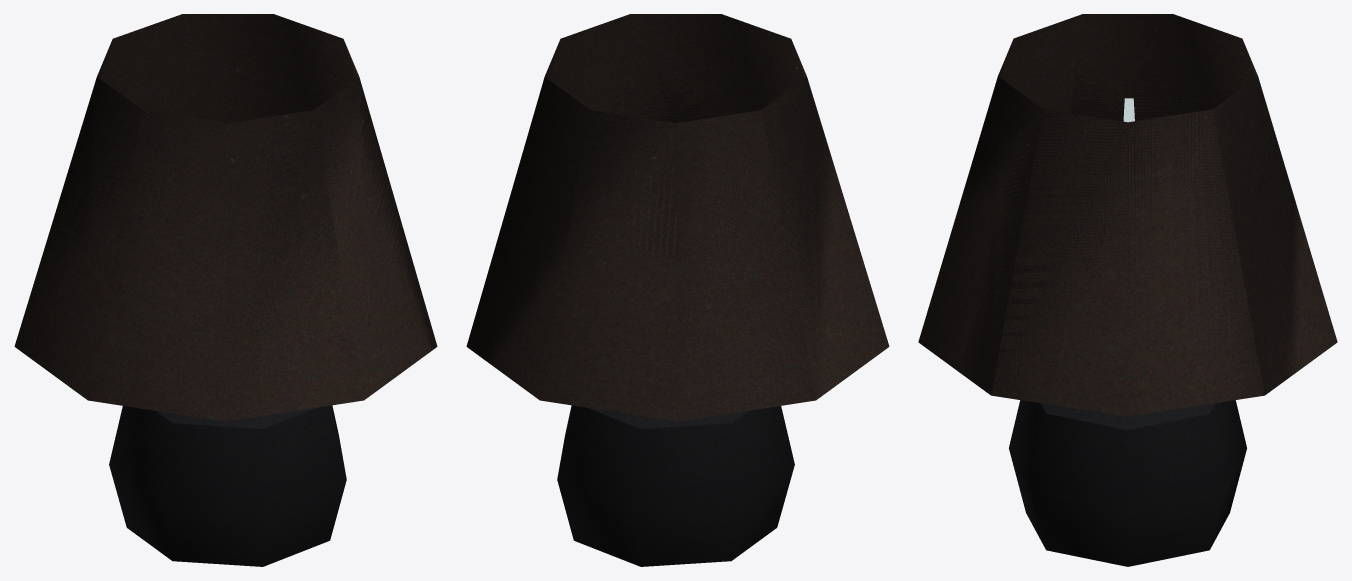
File: Sun_0058_Table_lamp.fbx
3 views of the same model, side by side, from view 1: azimuth 30°, elevation 25°; view 2: azimuth 150°, elevation 25°; view 3: azimuth 270°, elevation 25° (orthographic).
Visible parts, largest first — view 1: Sun_0058_Table_lamp; view 2: Sun_0058_Table_lamp; view 3: Sun_0058_Table_lamp.
Boxes of the visible parts, box(x1,y1,x2,y2) form: Sun_0058_Table_lamp: box(14, 14, 437, 566); Sun_0058_Table_lamp: box(466, 14, 889, 566); Sun_0058_Table_lamp: box(918, 14, 1337, 566).
Size of the model in its own units: 44.92 by 54.94 by 45.62.
